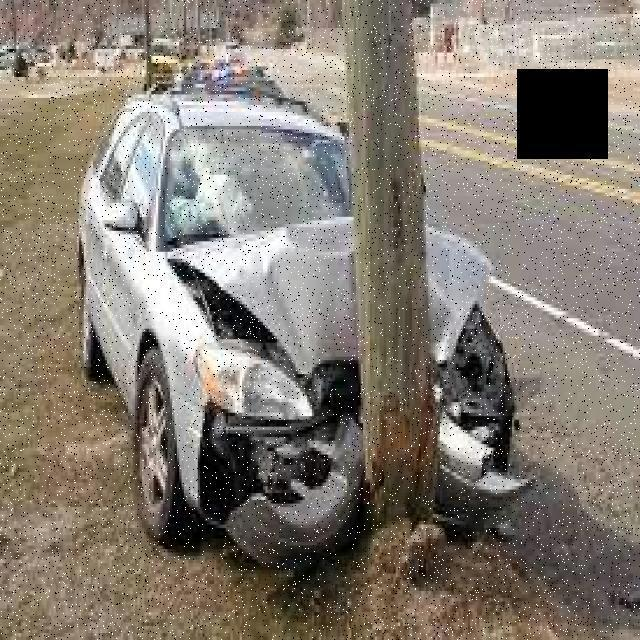single accident: (65, 43, 570, 617)
